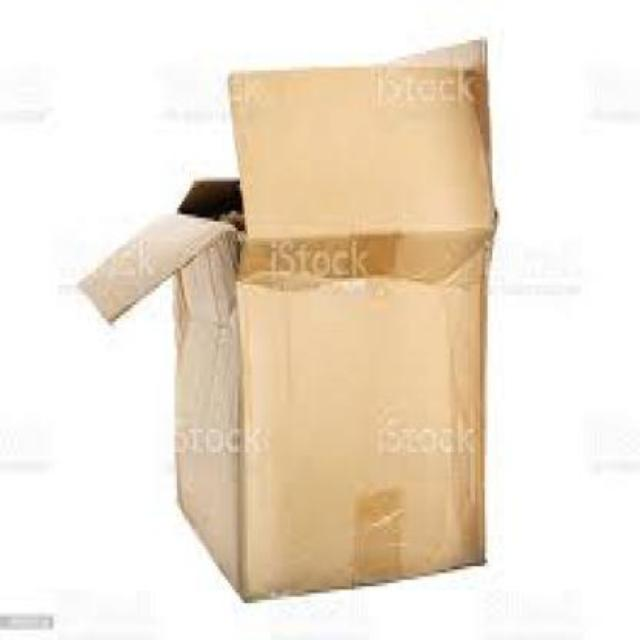cardboard_box: (88, 46, 506, 602)
